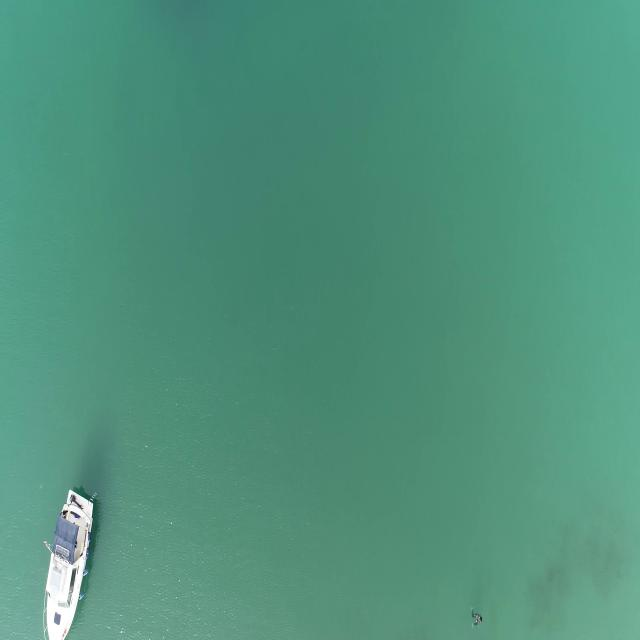boat: (39, 487, 100, 640)
person: (470, 610, 485, 626)
